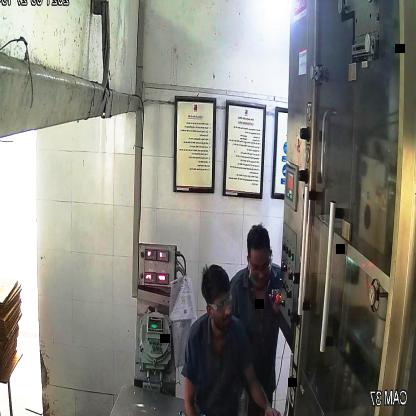goggles: (206, 288, 235, 316)
